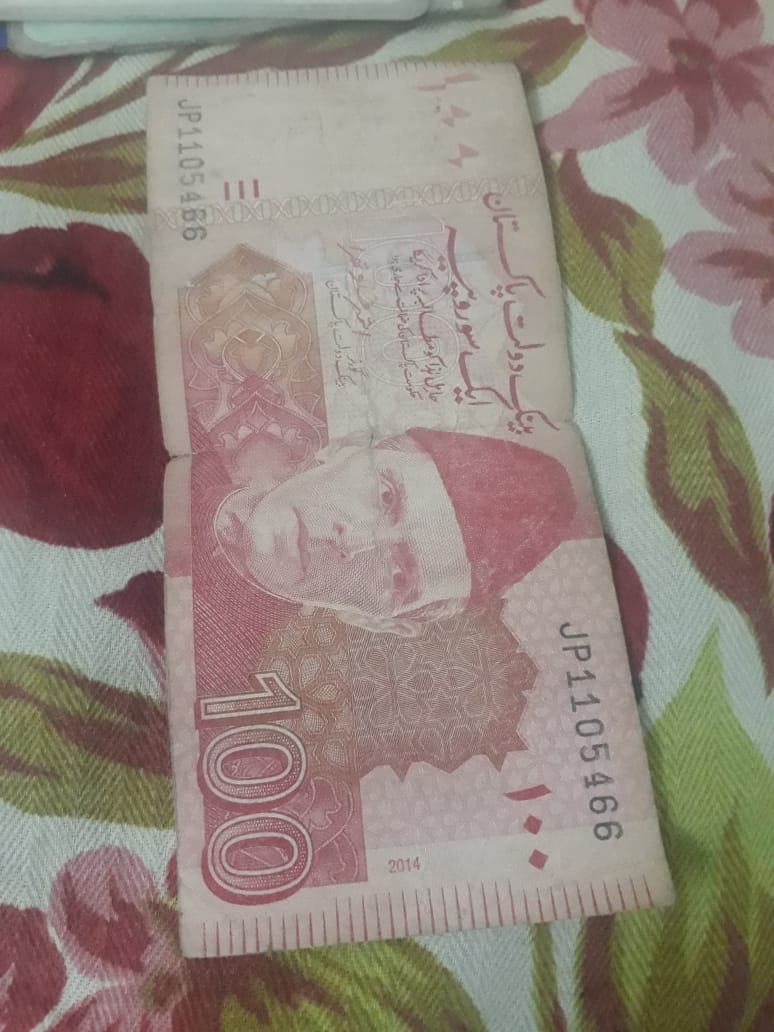100 rupee: (141, 64, 677, 960)
